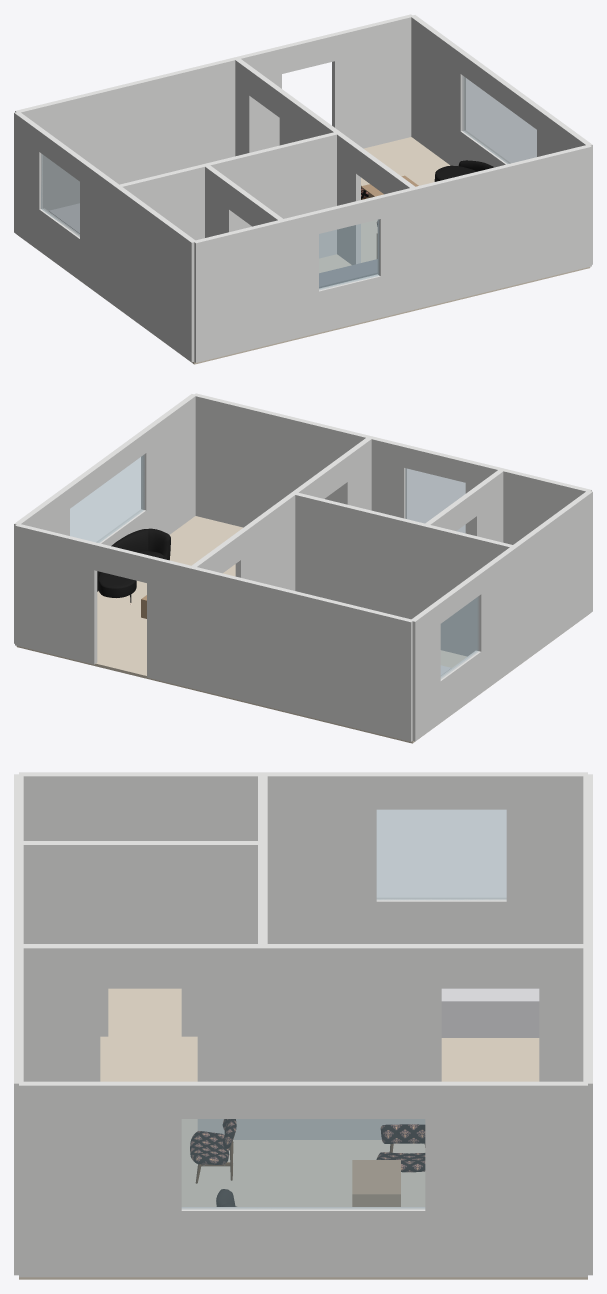
3 views of the same model, one above another, from view 1: azimuth 30°, elevation 25°; view 2: azimuth 150°, elevation 25°; view 3: azimuth 270°, elevation 25° (orthographic). The views are drawn at different scales.
Visible parts, largest first — view 1: mesh_muro (×23), mesh_vidrio (×3), mesh_piso, mesh_cocina, GlamVelvetSofa_fabric, mesh_cama; view 2: mesh_muro (×21), mesh_vidrio (×3), mesh_piso, GlamVelvetSofa_fabric; view 3: mesh_muro (×21), mesh_vidrio (×2), mesh_piso, mesh_cama, mesh_madera, oval-tufted-chair_seat-fabric (×2), oval-tufted-chair_back-fabric.
Boxes of the visible parts, x1,y1,x2,y2 form: mesh_muro (×23): [14, 14, 592, 362]; mesh_vidrio (×3): [41, 76, 536, 289]; mesh_piso: [18, 137, 590, 364]; mesh_cocina: [319, 259, 377, 288]; GlamVelvetSofa_fabric: [434, 160, 494, 181]; mesh_cama: [49, 203, 79, 233]; mesh_muro (×21): [14, 393, 592, 741]; mesh_vidrio (×3): [70, 455, 478, 678]; mesh_piso: [16, 516, 588, 743]; GlamVelvetSofa_fabric: [97, 528, 170, 597]; mesh_muro (×21): [14, 772, 592, 1277]; mesh_vidrio (×2): [181, 809, 506, 1209]; mesh_piso: [19, 988, 587, 1279]; mesh_cama: [441, 988, 539, 1037]; mesh_madera: [352, 1160, 400, 1206]; oval-tufted-chair_seat-fabric (×2): [190, 1131, 425, 1172]; oval-tufted-chair_back-fabric: [380, 1124, 425, 1143].
Size of the model in its own units: 9.12 by 2.66 by 7.12.
13 materials, 3 textured.
